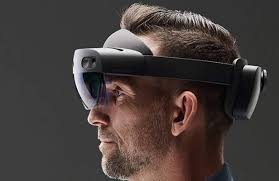hololens: (72, 30, 268, 123)
